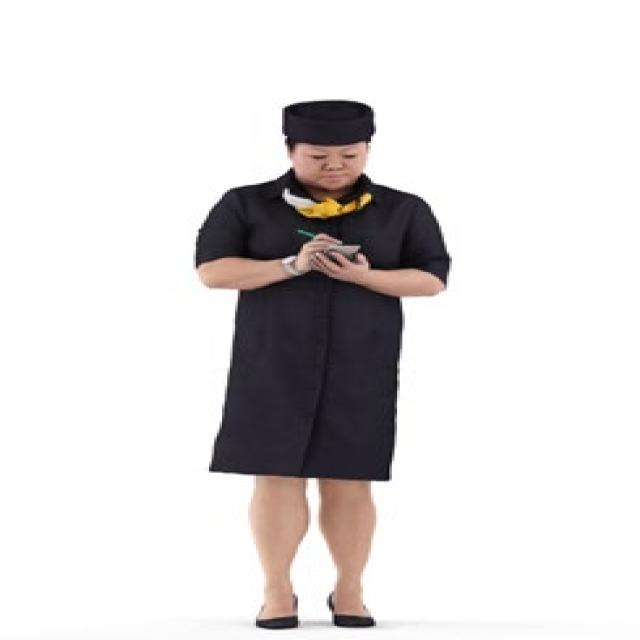standing: (186, 100, 455, 634)
